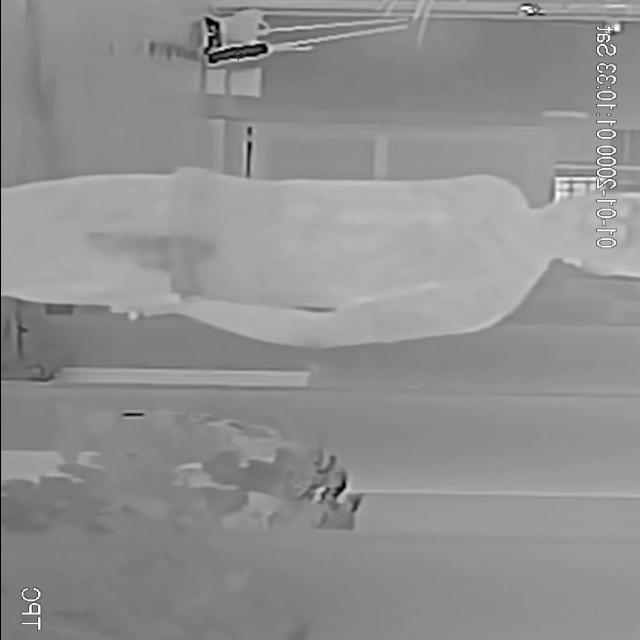Weapon: (76, 209, 226, 311)
